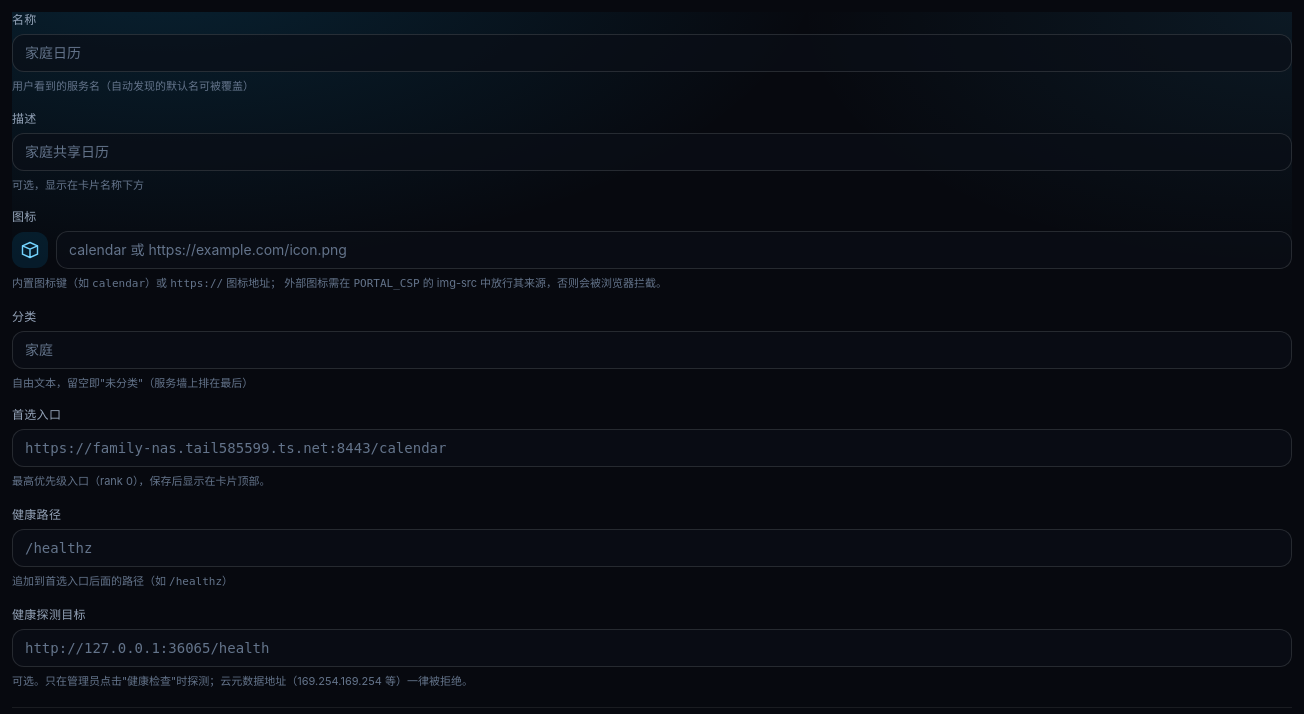
Test case: ServiceForm · 危险输入 › 图标既不是内置键也不是 https 地址时给出提示（并说明外部图标的 CSP 约束）
Type "我的服务" into the field labelled "名称".
click(652, 53); type("我的服务")  # box 12,34 -> 1292,72
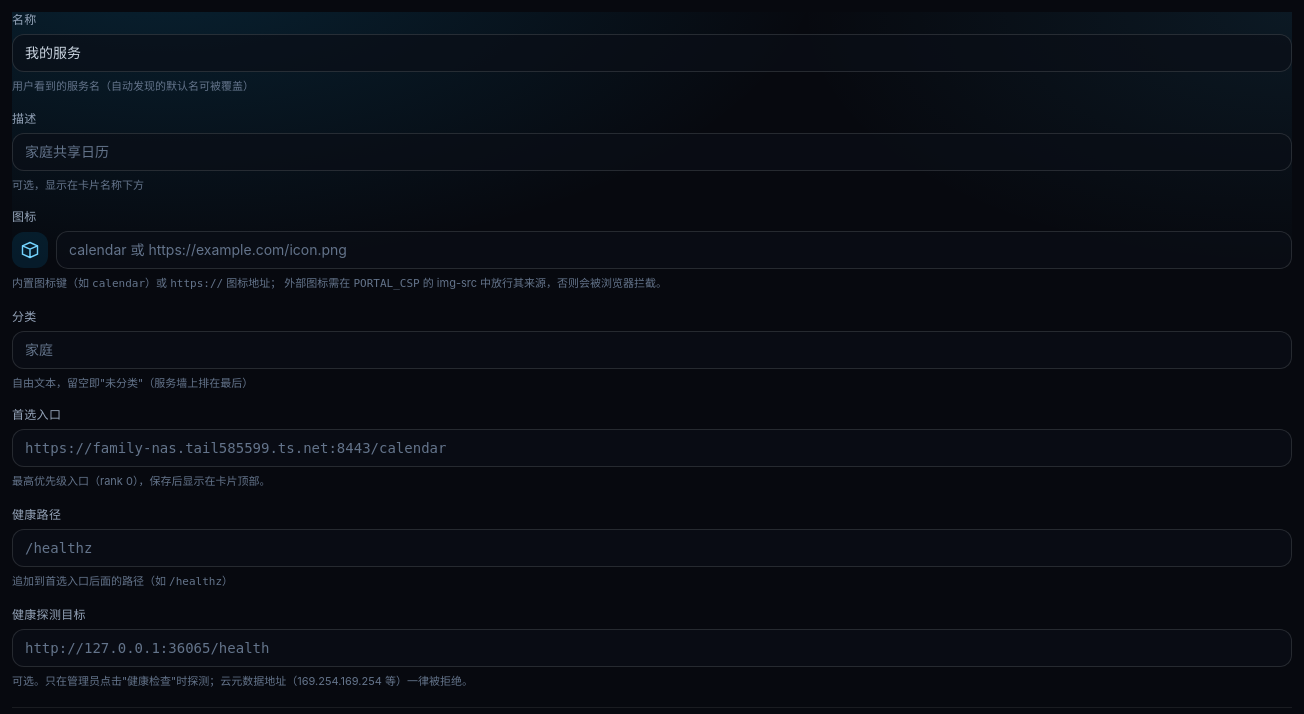
Type "http://evil.test/icon.png" into the field labelled "图标".
click(674, 250); type("http://evil.test/icon.png")  # box 56,231 -> 1292,269
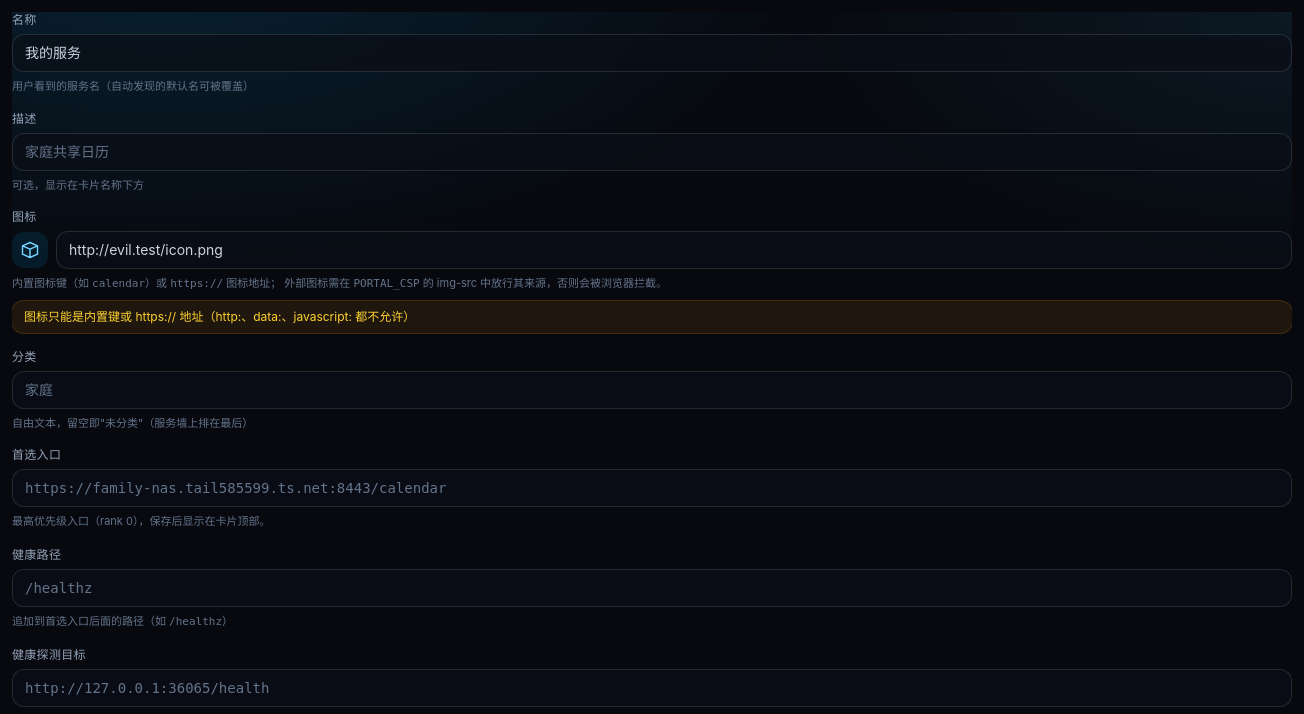
Expected: the message with id "service-icon-error" shows "内置键或 https:// 地址", 24,309 -> 415,324
Replace the text in the field labelled "图标" with "https://cdn.example.com/icon.png" at (674, 250), box 56,231 -> 1292,269
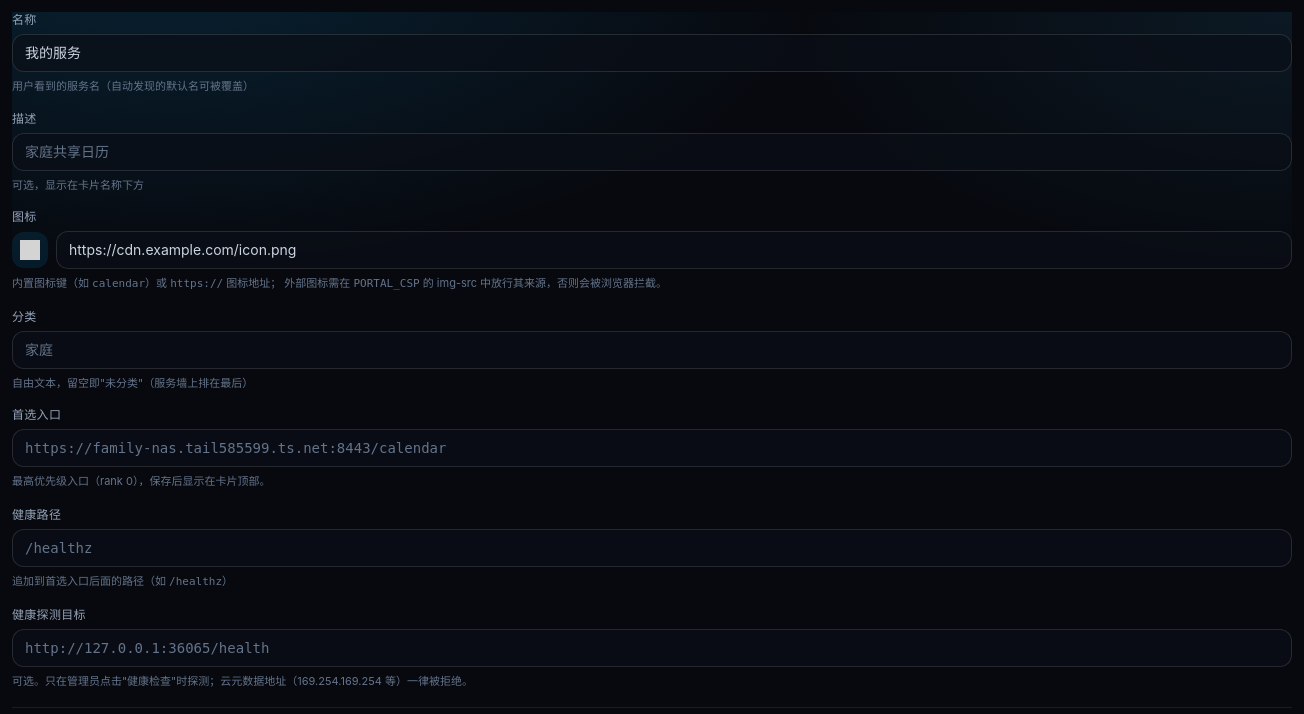
Expected: the text "PORTAL_CSP" is shown, 353,277 -> 420,290
Expected: the message with id "service-icon-error" is gone
